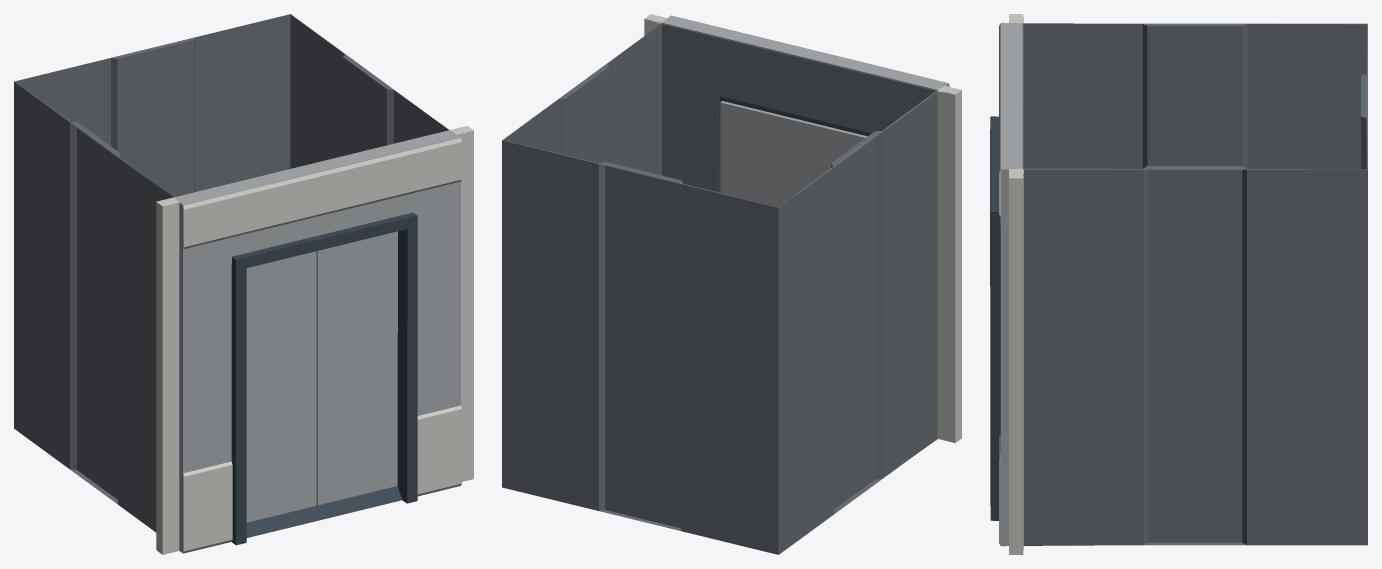
File: Elevator_Exterior.FBX
The picture shows the model from 3 angles, left to right: view 1: azimuth 30°, elevation 25°; view 2: azimuth 150°, elevation 25°; view 3: azimuth 270°, elevation 25°; orthographic projection. The views are drawn at different scales.
Visible parts, largest first — view 1: Elevator_Exterior, Elevator_Exterior_Door_R, Elevator_Exterior_Door_L; view 2: Elevator_Exterior, Elevator_Exterior_Door_R, Elevator_Exterior_Door_L; view 3: Elevator_Exterior.
Boxes of the visible parts, x1,y1,x2,y2 form: Elevator_Exterior: (14, 14, 473, 554); Elevator_Exterior_Door_R: (316, 231, 397, 505); Elevator_Exterior_Door_L: (246, 251, 316, 522); Elevator_Exterior: (502, 14, 961, 554); Elevator_Exterior_Door_R: (720, 101, 804, 207); Elevator_Exterior_Door_L: (803, 121, 867, 188); Elevator_Exterior: (990, 14, 1367, 554).
Bounding box in the file's own units: 281 × 301 × 273.
